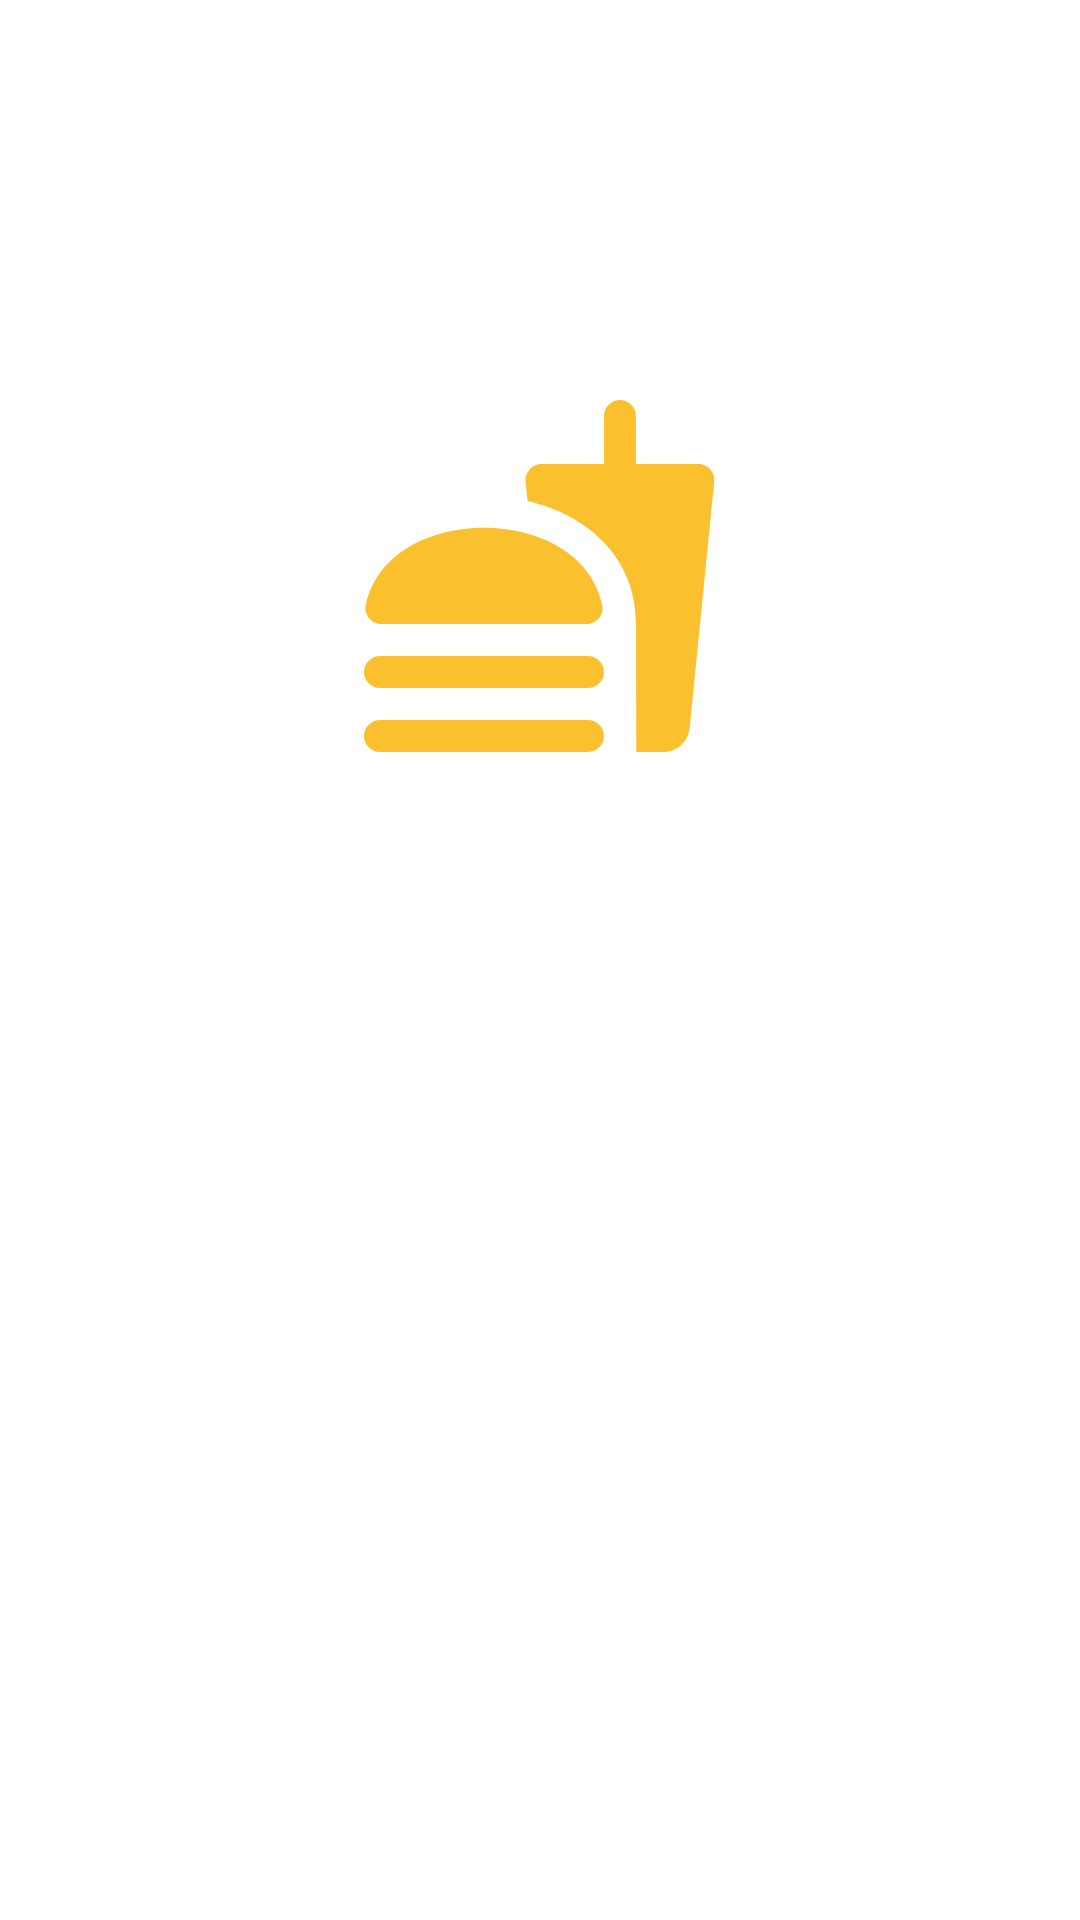

Icon click points for this 1080w x 1920h phone screenshot, format (x,y):
fastfood: (539,576)
